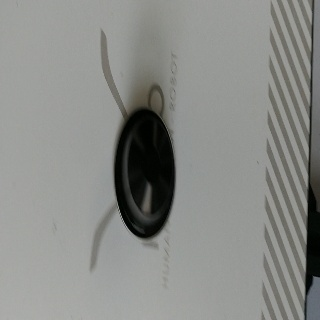capsule_10: (112, 106, 176, 244)
